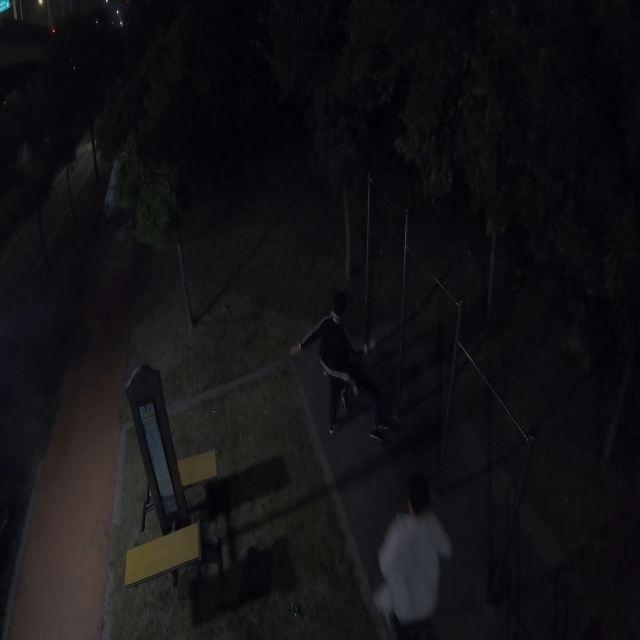fight: (288, 289, 399, 451)
non-fight: (363, 473, 457, 640)
